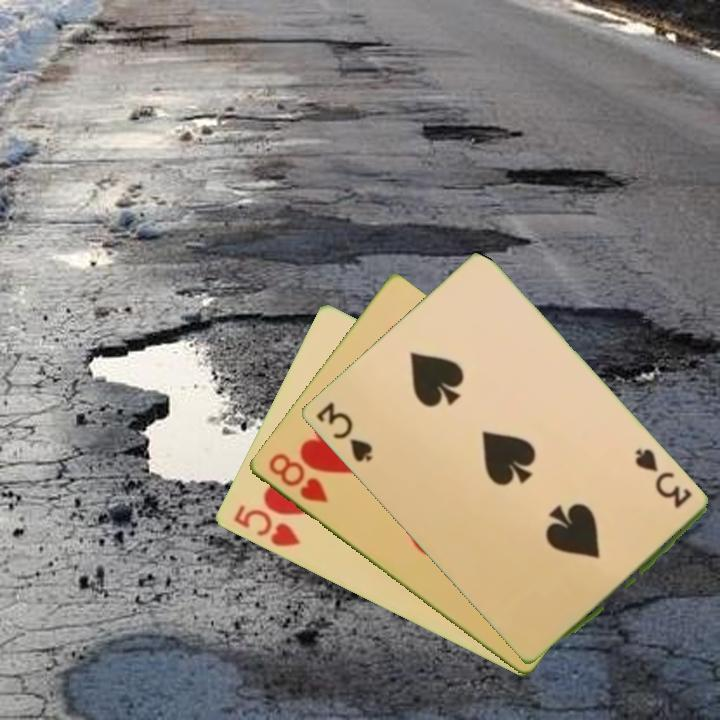3s: (311, 398, 376, 466), (631, 445, 694, 512)
5h: (229, 501, 303, 550)
8h: (264, 449, 331, 506)
